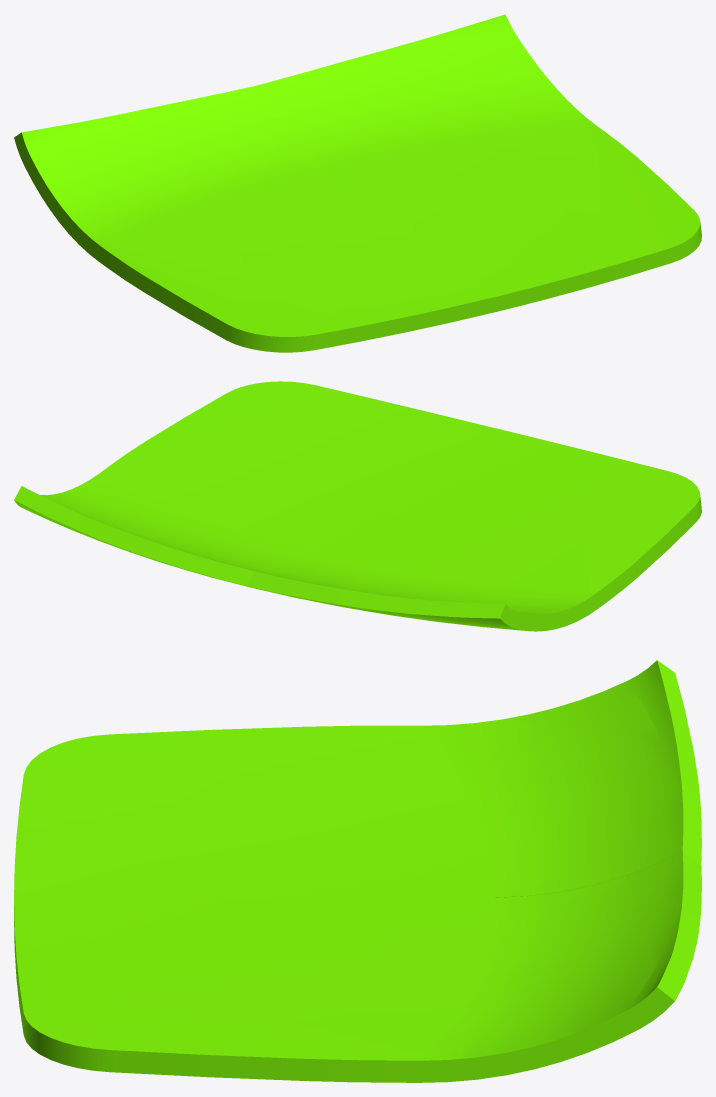
File: chair_026_03.obj
3 renders of one model, top to bottom at view 1: azimuth 30°, elevation 25°; view 2: azimuth 150°, elevation 25°; view 3: azimuth 270°, elevation 25°, orthographic. The views are drawn at different scales.
Size of the model in its own units: 487 by 64.2 by 420.
